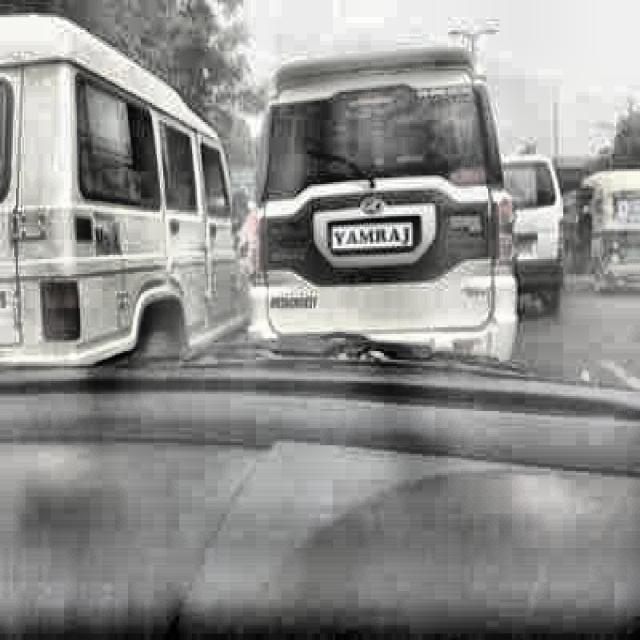license_plate: (328, 219, 419, 257)
